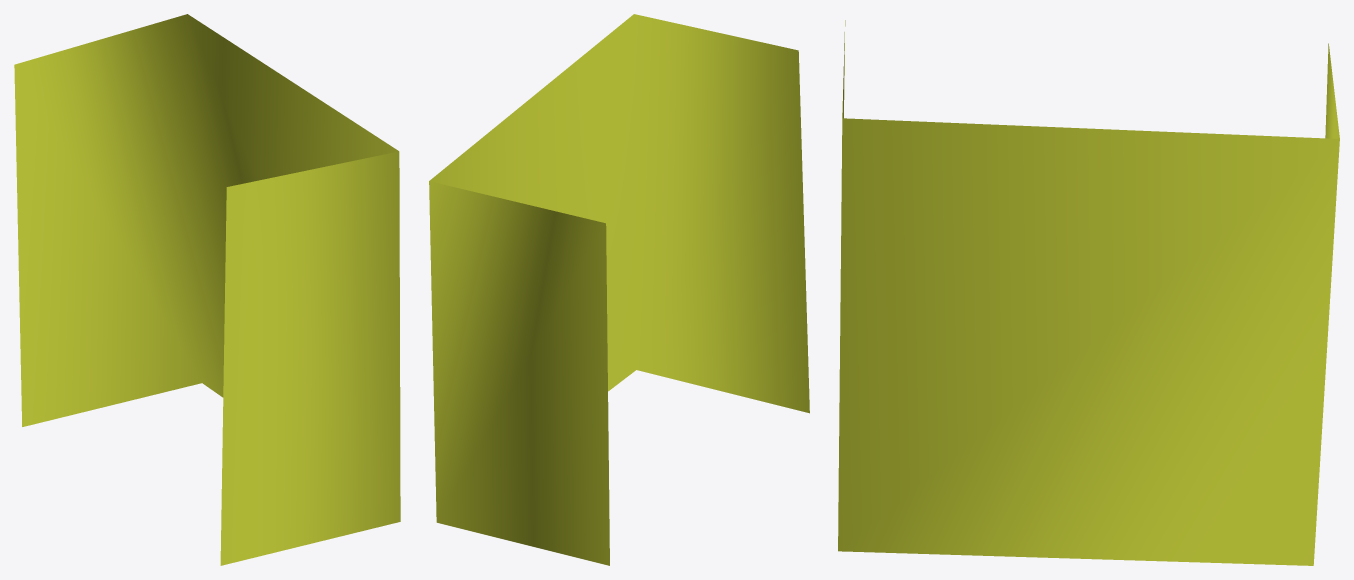
File: b_polySurface645_b_BMW_i8Elite_2_622.glb
The picture shows the model from 3 angles, left to right: view 1: azimuth 30°, elevation 25°; view 2: azimuth 150°, elevation 25°; view 3: azimuth 270°, elevation 25°; orthographic projection. The views are drawn at different scales.
Parts seen in each view (by area): view 1: b:polySurface645_b:BMW_i8Elite_2017CalliperGloss_Material1_0; view 2: b:polySurface645_b:BMW_i8Elite_2017CalliperGloss_Material1_0; view 3: b:polySurface645_b:BMW_i8Elite_2017CalliperGloss_Material1_0.
Part boxes in pixels (x1,y1,x2,y2): b:polySurface645_b:BMW_i8Elite_2017CalliperGloss_Material1_0: [14, 14, 400, 565]; b:polySurface645_b:BMW_i8Elite_2017CalliperGloss_Material1_0: [429, 14, 809, 565]; b:polySurface645_b:BMW_i8Elite_2017CalliperGloss_Material1_0: [838, 20, 1339, 565].
Bounding box in the file's own units: 0.00561 × 0.0113 × 0.0113.
